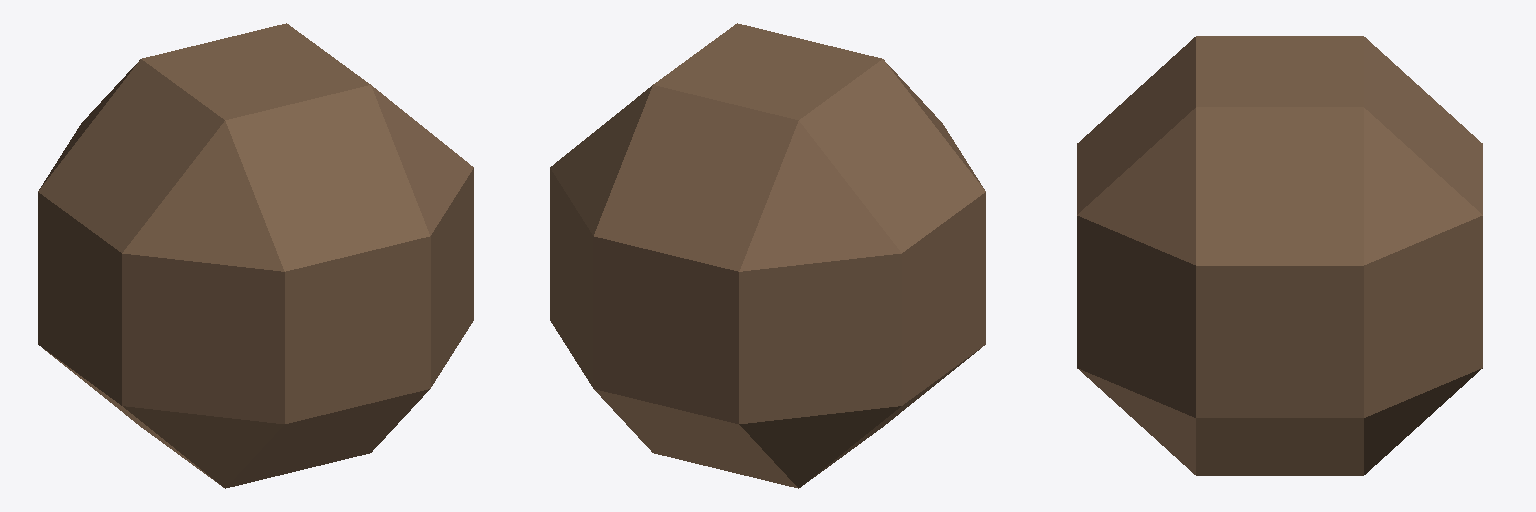
Rendered from Beach_Prop_Coconut_1.obj.
3 renders of one model, left to right at view 1: azimuth 30°, elevation 25°; view 2: azimuth 150°, elevation 25°; view 3: azimuth 270°, elevation 25°, orthographic.
Parts seen in each view (by area): view 1: object1; view 2: object1; view 3: object1.
Boxes of the visible parts, x1,y1,x2,y2 form: object1: [38, 23, 473, 488]; object1: [550, 23, 985, 488]; object1: [1077, 36, 1482, 475].
Size of the model in its own units: 0.35 by 0.35 by 0.35.